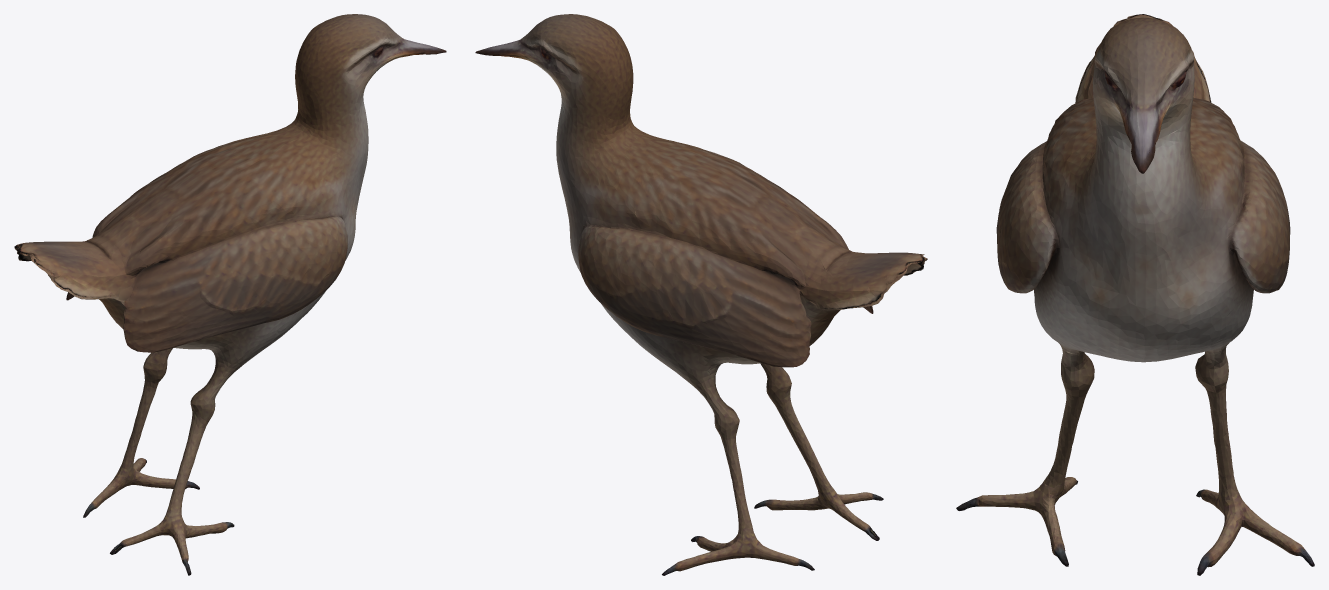
3 renders of one model, left to right at view 1: azimuth 30°, elevation 25°; view 2: azimuth 150°, elevation 25°; view 3: azimuth 270°, elevation 25°, orthographic. The views are drawn at different scales.
Parts seen in each view (by area): view 1: Messelornis_retained_parent; view 2: Messelornis_retained_parent; view 3: Messelornis_retained_parent.
Part boxes in pixels (bbox=[...]): Messelornis_retained_parent: bbox=[14, 14, 446, 575]; Messelornis_retained_parent: bbox=[475, 14, 927, 575]; Messelornis_retained_parent: bbox=[956, 14, 1314, 575].
Size of the model in its own units: 0.9846 by 0.9998 by 0.5084.
2 materials, 1 textured.
